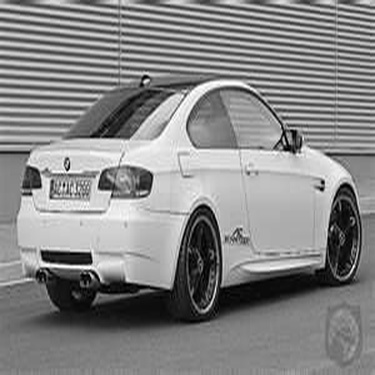car: (14, 61, 367, 331)
